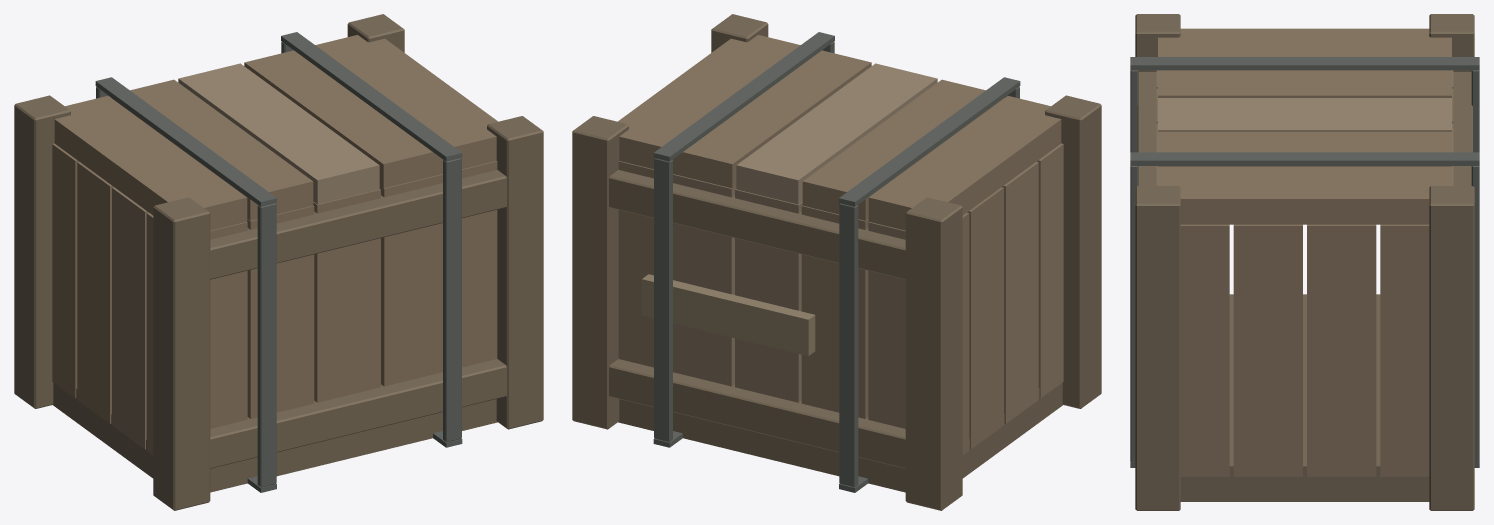
The model's file is env_crate_v03_iron_bound.glb.
3 renders of one model, left to right at view 1: azimuth 30°, elevation 25°; view 2: azimuth 150°, elevation 25°; view 3: azimuth 270°, elevation 25°, orthographic. The views are drawn at different scales.
Parts seen in each view (by area): view 1: material_0, material_2, material_3, material_1, material_5; view 2: material_2, material_0, material_5, material_3, material_1, material_6; view 3: material_0, material_2, material_3, material_1.
Boxes of the visible parts, left/top/right/bottom form: material_0: left=52, top=35, right=497, bottom=467; material_2: left=14, top=14, right=543, bottom=510; material_3: left=95, top=32, right=462, bottom=492; material_1: left=178, top=63, right=379, bottom=204; material_5: left=112, top=187, right=153, bottom=455; material_2: left=572, top=14, right=1101, bottom=510; material_0: left=618, top=35, right=1061, bottom=458; material_5: left=673, top=143, right=1063, bottom=467; material_3: left=653, top=32, right=1020, bottom=492; material_1: left=736, top=63, right=937, bottom=204; material_6: left=641, top=274, right=815, bottom=355; material_0: left=1156, top=28, right=1453, bottom=476; material_2: left=1135, top=14, right=1474, bottom=510; material_3: left=1130, top=57, right=1479, bottom=467; material_1: left=1158, top=98, right=1451, bottom=131.
Bounding box in the file's own units: 0.8 × 0.6 × 0.618.
